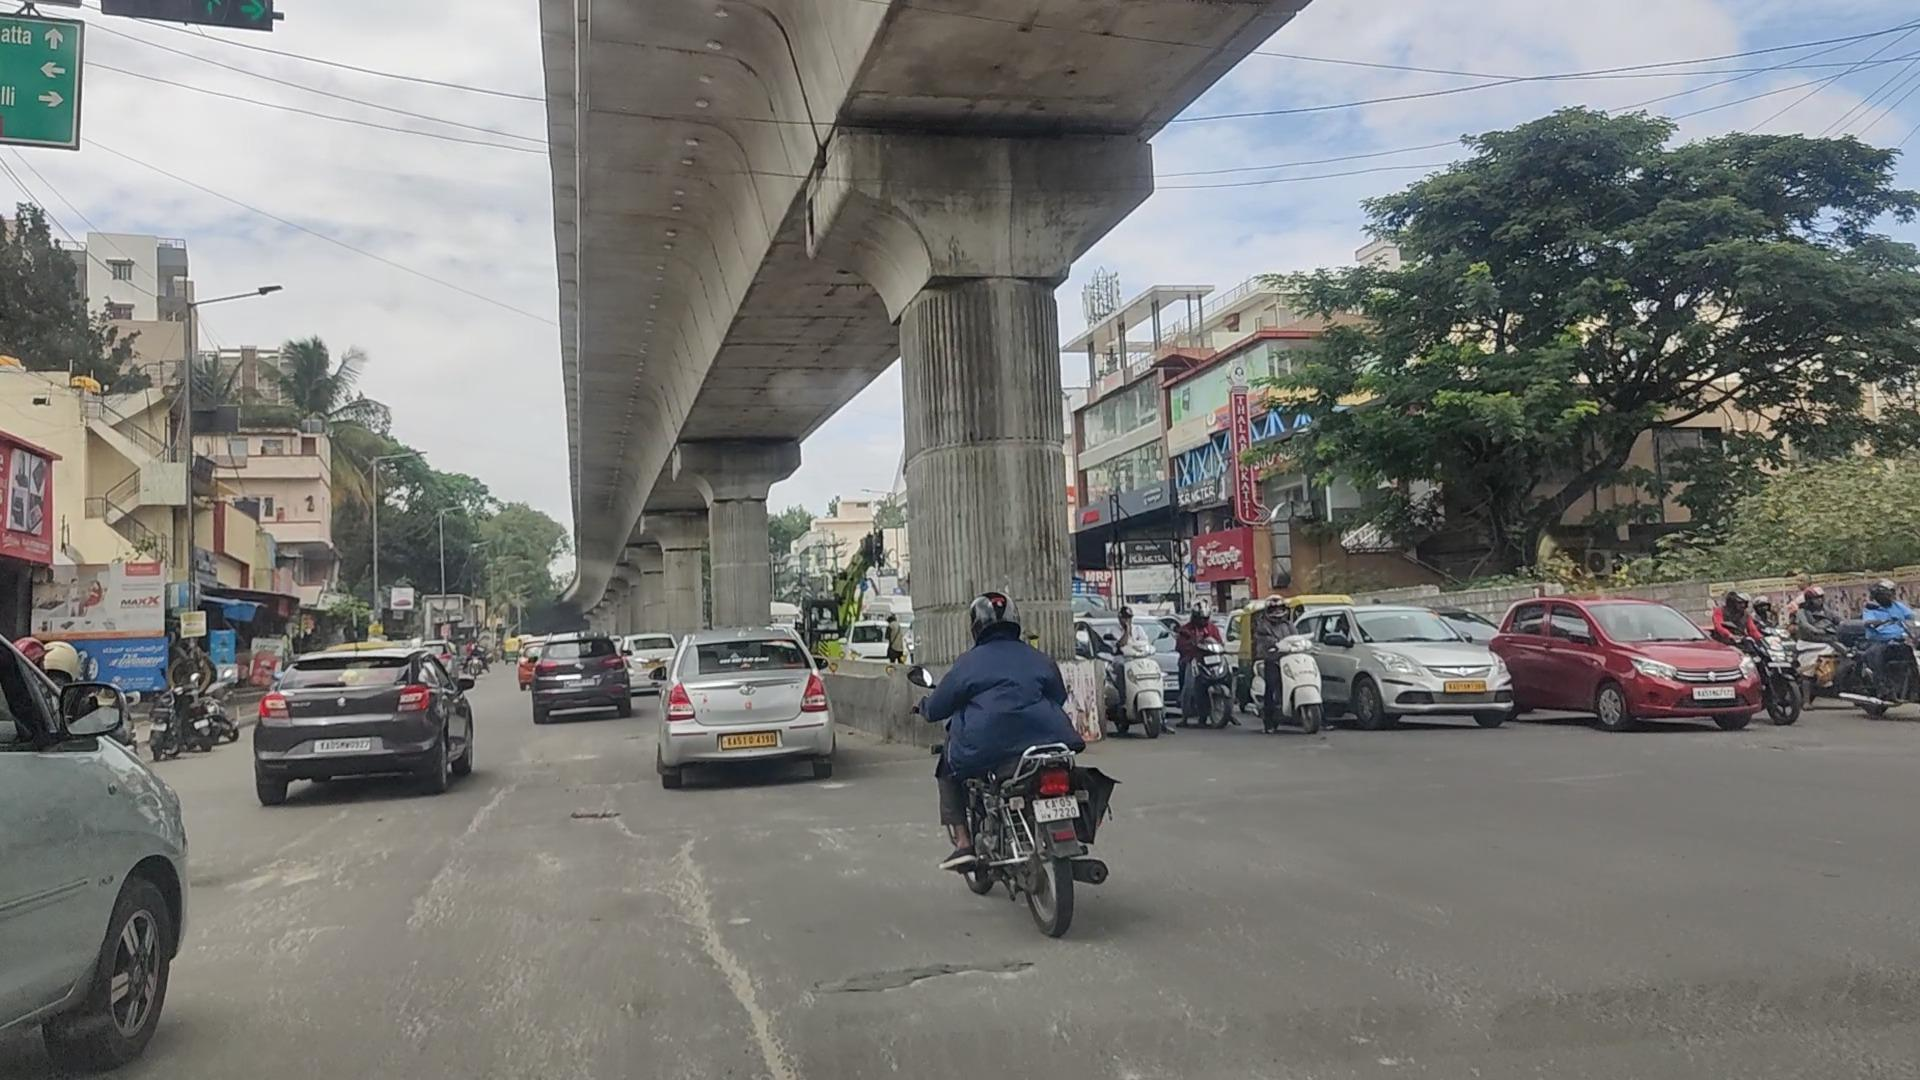LMV: (939, 593, 1091, 944), (253, 654, 477, 803), (665, 641, 841, 791)
RoadDamages: (658, 845, 778, 1039), (224, 844, 338, 920), (825, 961, 1031, 996), (397, 857, 456, 920), (560, 791, 630, 839), (462, 786, 516, 836)
